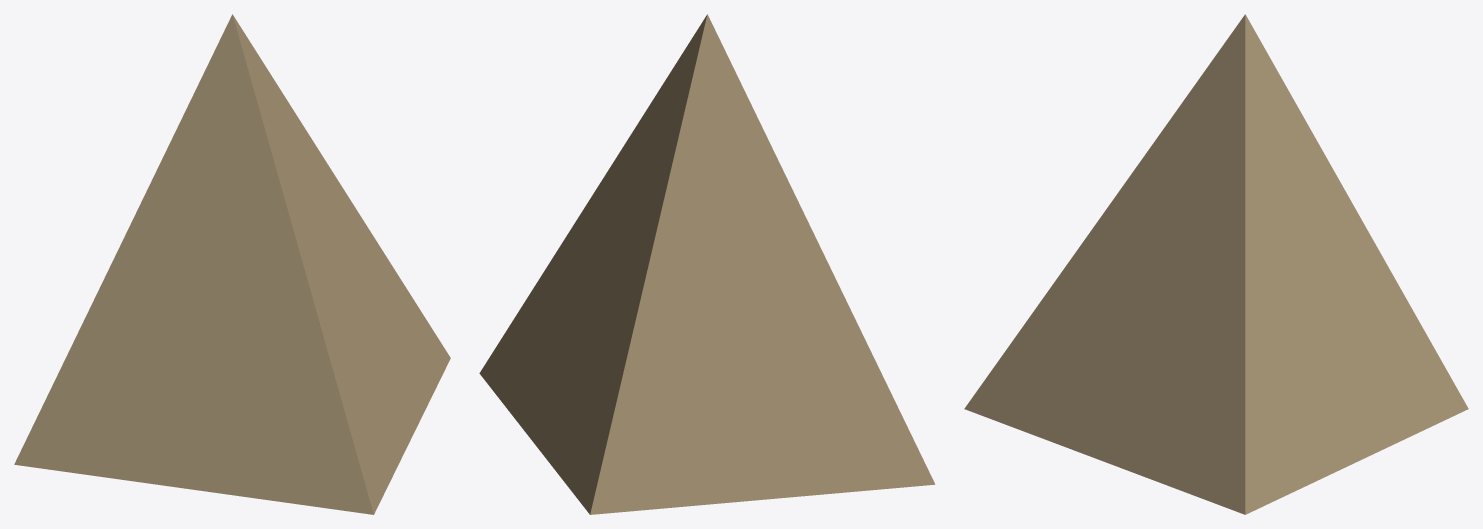
Rendered from Roof.fbx.
3 views of the same model, side by side, from view 1: azimuth 30°, elevation 25°; view 2: azimuth 150°, elevation 25°; view 3: azimuth 270°, elevation 25° (orthographic). The views are drawn at different scales.
Visible parts, largest first — view 1: Model; view 2: Model; view 3: Model.
Part boxes in pixels (bbox=[...]): Model: bbox=[14, 14, 450, 514]; Model: bbox=[479, 14, 935, 514]; Model: bbox=[964, 14, 1468, 514].
Size of the model in its own units: 279 by 243 by 281.
